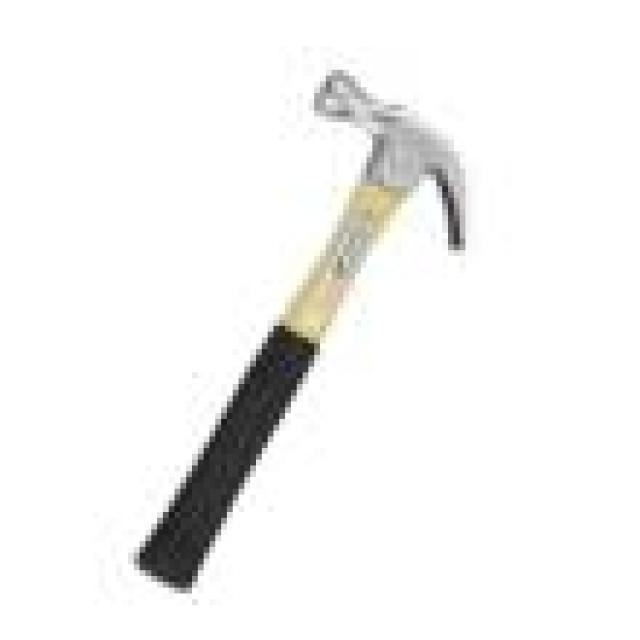hammer: (116, 52, 480, 599)
